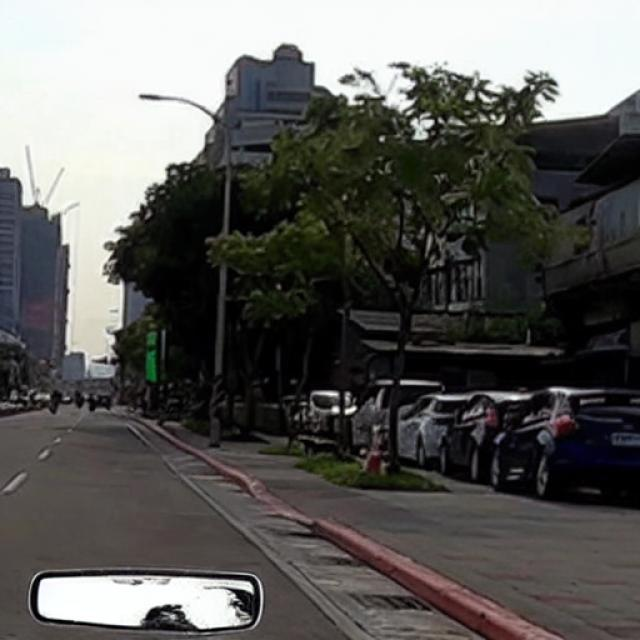puddle: (30, 568, 265, 635)
